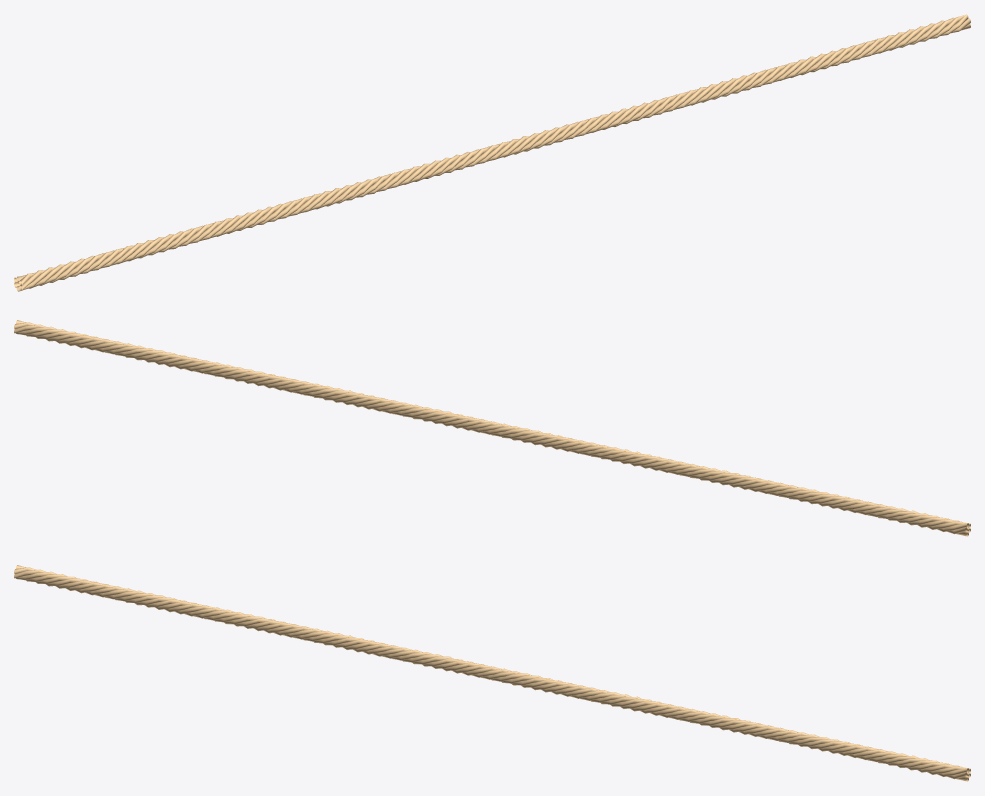
File: RopeLine.fbx
3 renders of one model, top to bottom at view 1: azimuth 30°, elevation 25°; view 2: azimuth 150°, elevation 25°; view 3: azimuth 330°, elevation 25°, orthographic. The views are drawn at different scales.
Visible parts, largest first — view 1: sweep2; view 2: sweep2; view 3: sweep2.
Part boxes in pixels (bbox=[...]): sweep2: bbox=[14, 14, 970, 291]; sweep2: bbox=[14, 320, 970, 536]; sweep2: bbox=[14, 565, 970, 781].
Size of the model in its own units: 6.33 by 0.09 by 0.4373.
